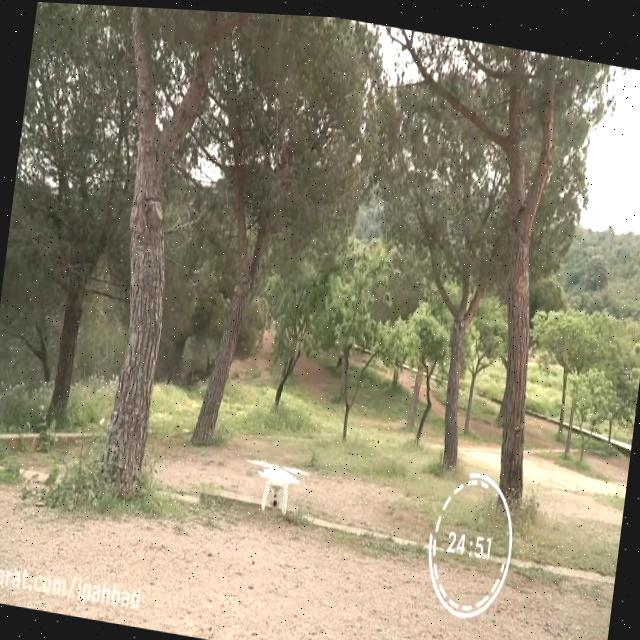drone: (237, 448, 314, 522)
